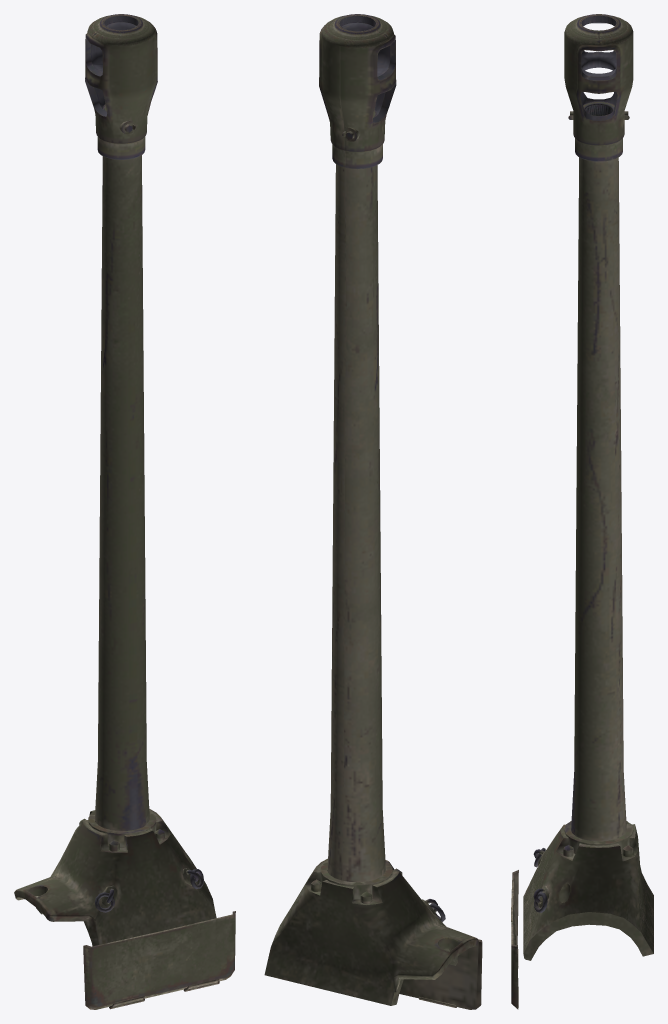
The model's file is Gun_03.glb.
3 views of the same model, side by side, from view 1: azimuth 30°, elevation 25°; view 2: azimuth 150°, elevation 25°; view 3: azimuth 270°, elevation 25° (orthographic). The views are drawn at different scales.
Parts seen in each view (by area): view 1: set_0_group_0, set_0_group_1; view 2: set_0_group_0, set_0_group_1; view 3: set_0_group_0, set_0_group_1.
Part boxes in pixels (x1,y1,x2,y2): set_0_group_0: (14,14,216,945); set_0_group_1: (83,911,235,1009); set_0_group_0: (264,14,478,1005); set_0_group_1: (399,939,482,1009); set_0_group_0: (523,14,653,960); set_0_group_1: (511,870,518,1009).
Size of the model in its own units: 0.8561 by 4.61 by 0.6245.
Materials: 2 (2 with a texture image).
